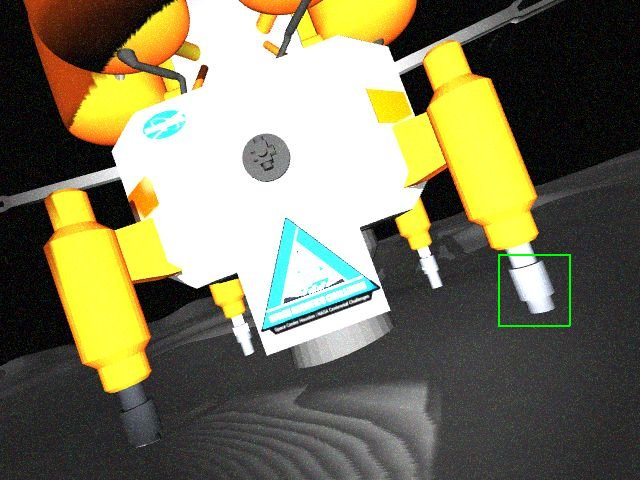basemarker: (261, 216, 381, 336)
